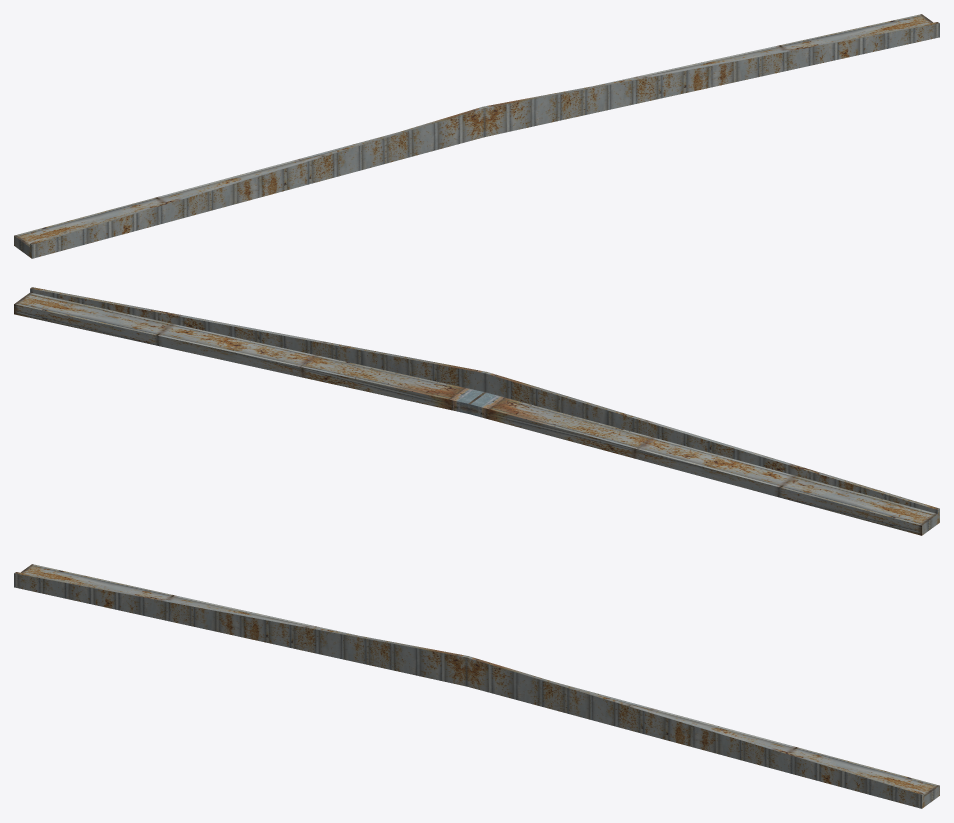
The model's file is Factory1Roof02.FBX.
3 renders of one model, top to bottom at view 1: azimuth 30°, elevation 25°; view 2: azimuth 150°, elevation 25°; view 3: azimuth 330°, elevation 25°, orthographic.
Parts seen in each view (by area): view 1: Factory1Roof02; view 2: Factory1Roof02; view 3: Factory1Roof02.
Part boxes in pixels (<box>): Factory1Roof02: <box>14,14,939,258</box>; Factory1Roof02: <box>14,287,939,535</box>; Factory1Roof02: <box>14,564,939,808</box>.
Bounding box in the file's own units: 1961 × 83.2 × 67.52.
